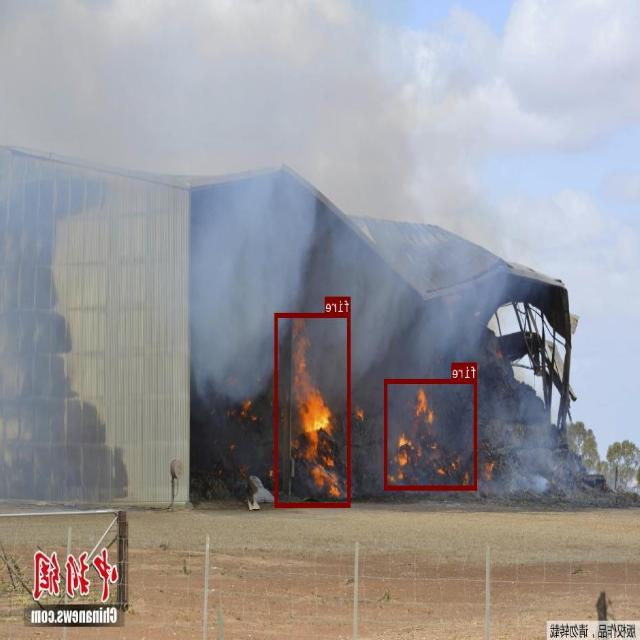fire: (275, 313, 351, 506), (385, 378, 477, 489)
